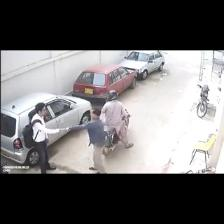person: (69, 108, 106, 173), (31, 103, 65, 173), (102, 91, 133, 148)
